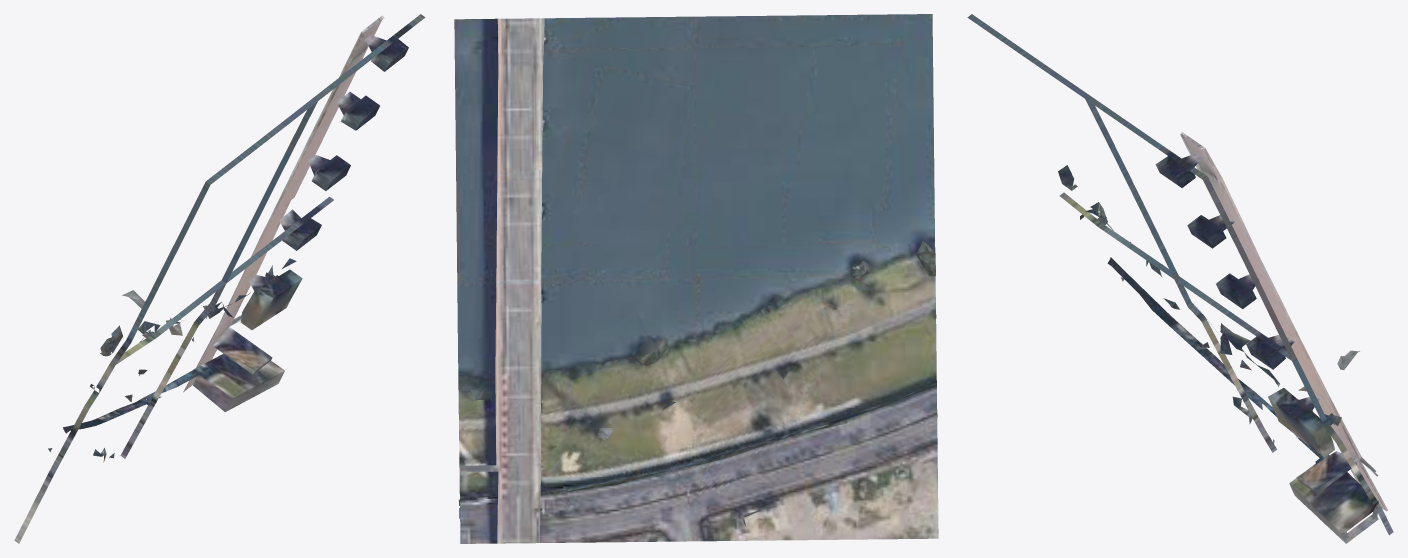
3 renders of one model, left to right at view 1: azimuth 30°, elevation 25°; view 2: azimuth 150°, elevation 25°; view 3: azimuth 270°, elevation 25°, orthographic. The views are drawn at different scales.
Bounding box in the file's own units: 308 × 281 × 262.
1 material, 1 textured.
